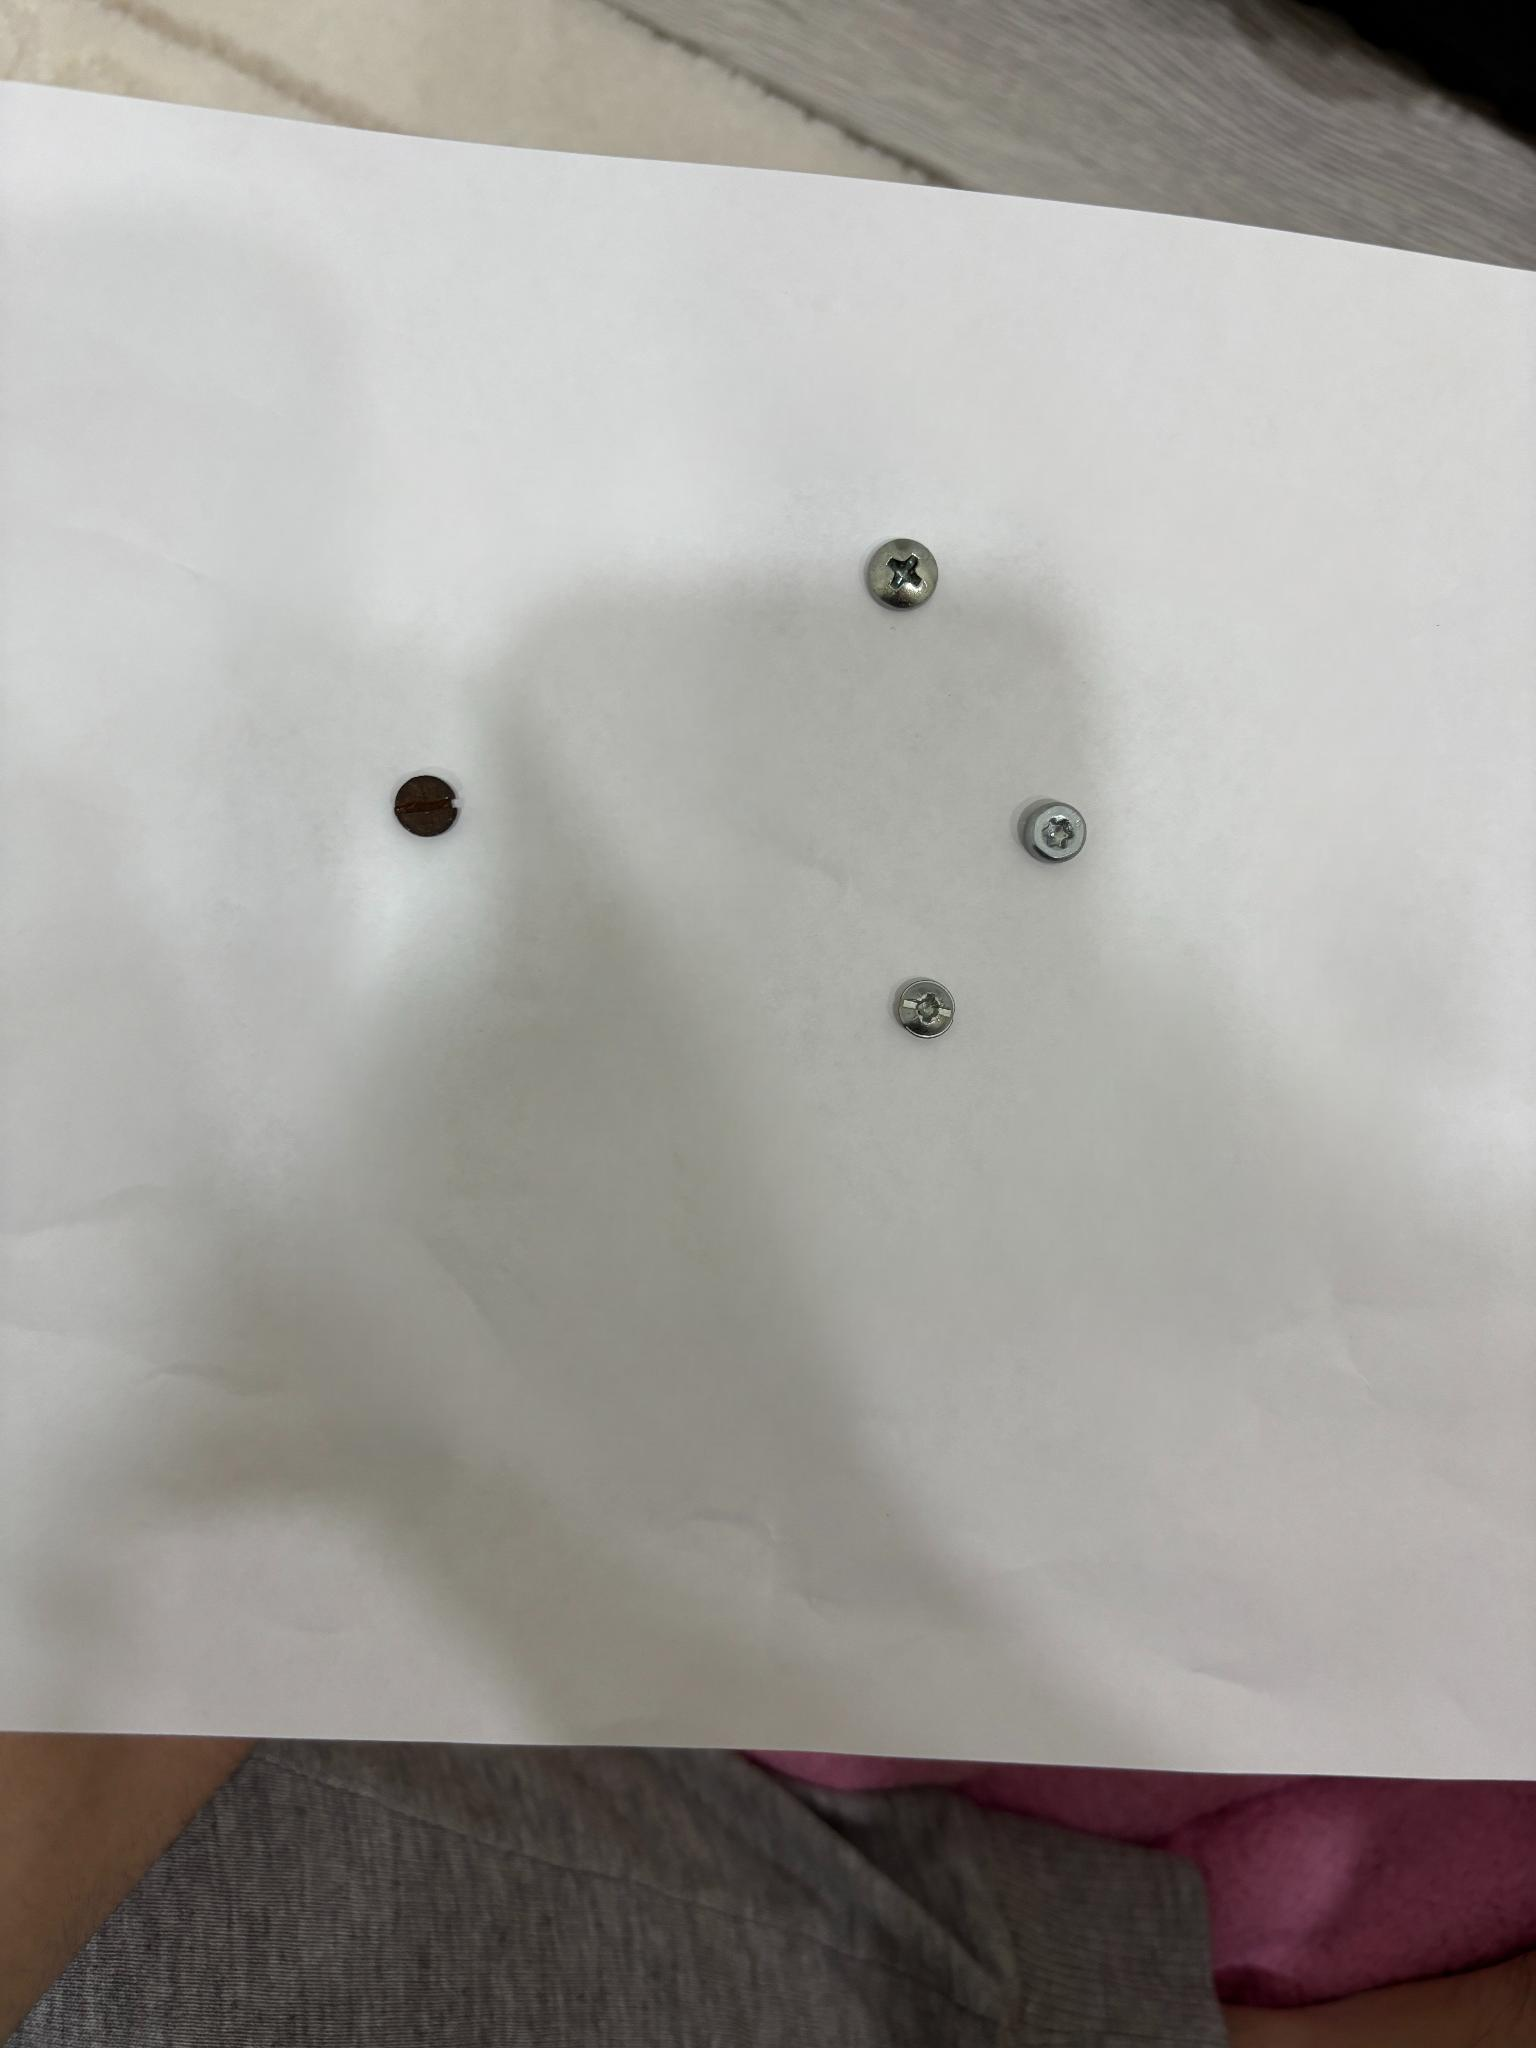PH: (865, 539, 939, 610)
PZ: (894, 977, 955, 1039)
SL: (394, 774, 457, 837)
T: (1020, 803, 1086, 863)
